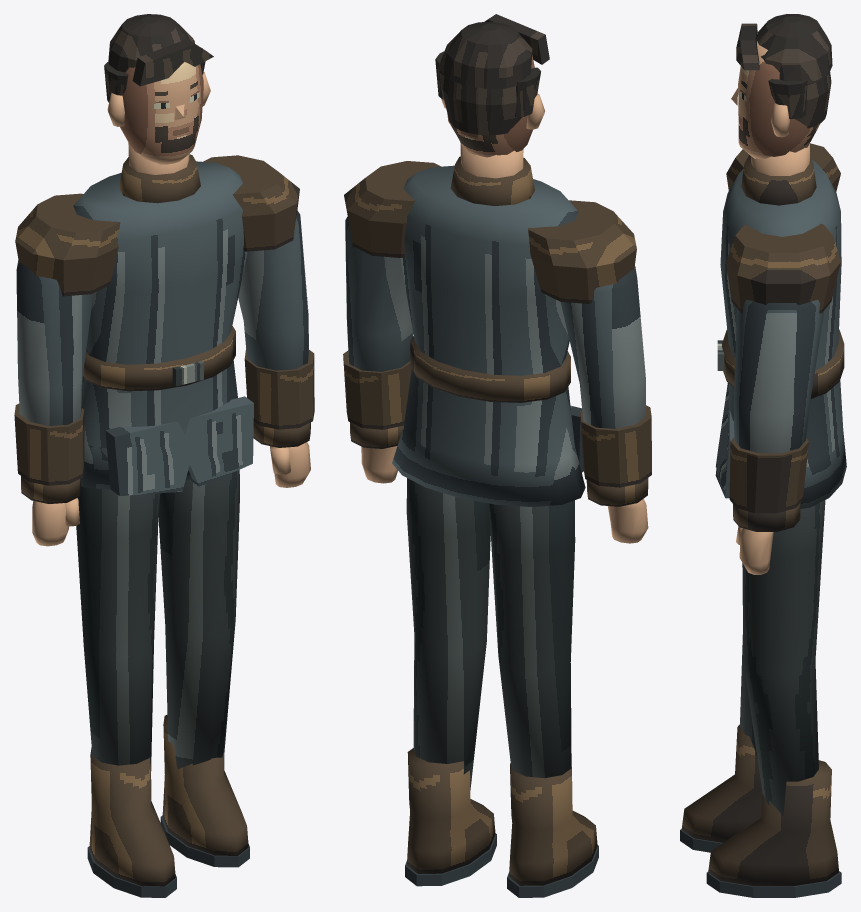
Rendered from armor-quiet.glb.
3 views of the same model, side by side, from view 1: azimuth 30°, elevation 25°; view 2: azimuth 150°, elevation 25°; view 3: azimuth 270°, elevation 25° (orthographic). The views are drawn at different scales.
Visible parts, largest first — view 1: armor-quiet runtime mesh; view 2: armor-quiet runtime mesh; view 3: armor-quiet runtime mesh.
Part boxes in pixels (box(x1,y1,x2,y2)): armor-quiet runtime mesh: box(14, 14, 314, 897); armor-quiet runtime mesh: box(343, 14, 651, 897); armor-quiet runtime mesh: box(680, 14, 846, 897).
Bounding box in the file's own units: 0.6623 × 1.82 × 0.3273.
Materials: 1 (1 with a texture image).
